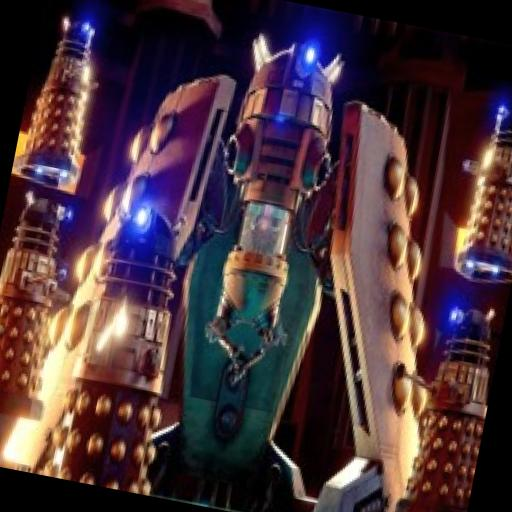dalek: (0, 0, 512, 512), (40, 188, 210, 497), (360, 286, 507, 512), (0, 182, 86, 422), (433, 84, 512, 288), (18, 11, 107, 191)
